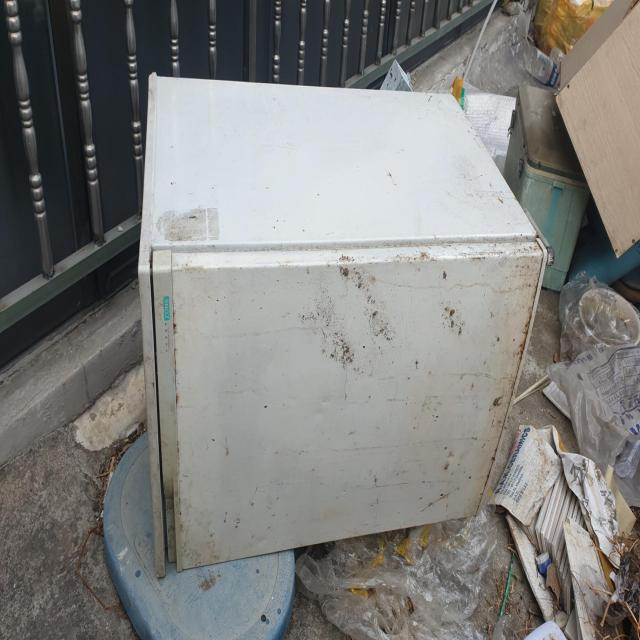refrigerator: (138, 73, 554, 581)
